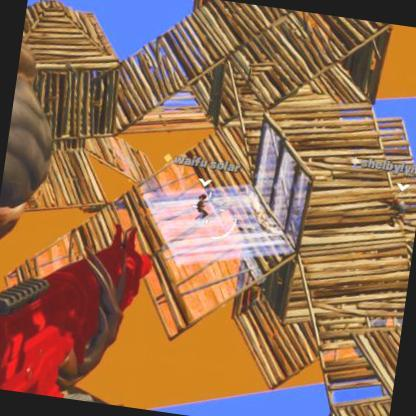person: (377, 190, 413, 242), (193, 195, 213, 227)
